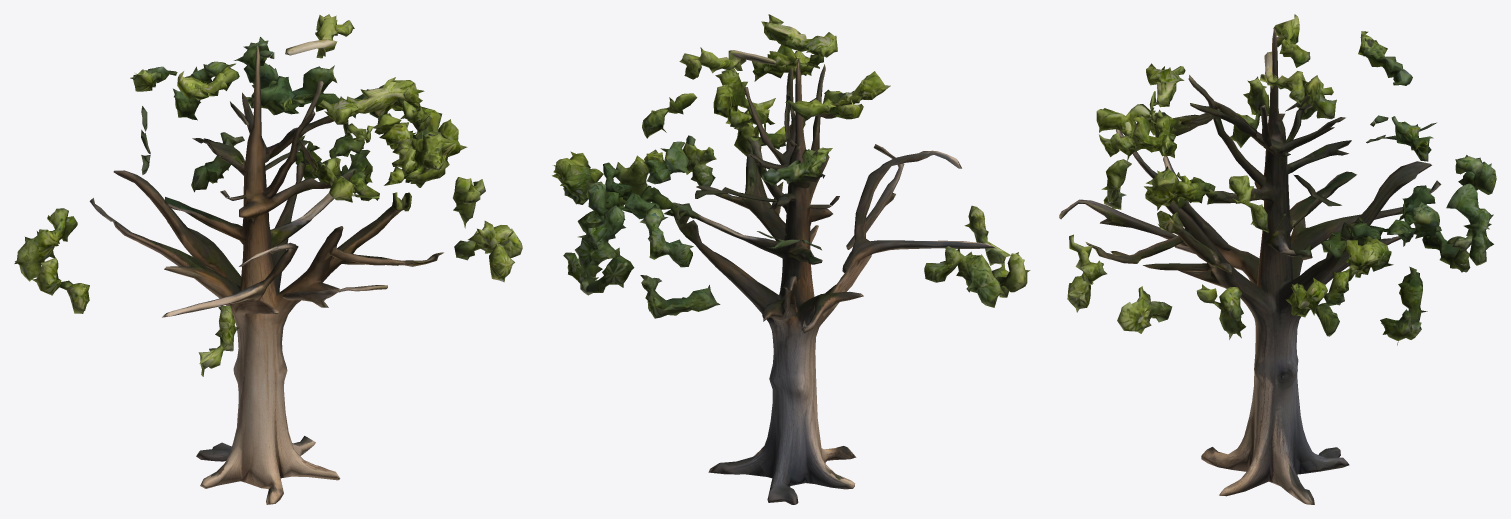
Rendered from tree2.fbx.
3 views of the same model, side by side, from view 1: azimuth 30°, elevation 25°; view 2: azimuth 150°, elevation 25°; view 3: azimuth 270°, elevation 25° (orthographic). The views are drawn at different scales.
Visible parts, largest first — view 1: tripo_node_1e3e3fee; view 2: tripo_node_1e3e3fee; view 3: tripo_node_1e3e3fee.
Boxes of the visible parts, x1,y1,x2,y2 form: tripo_node_1e3e3fee: [14, 14, 522, 504]; tripo_node_1e3e3fee: [552, 14, 1030, 504]; tripo_node_1e3e3fee: [1059, 14, 1496, 504].
Size of the model in its own units: 0.9908 by 0.9028 by 0.8105.
Materials: 1 (1 with a texture image).
